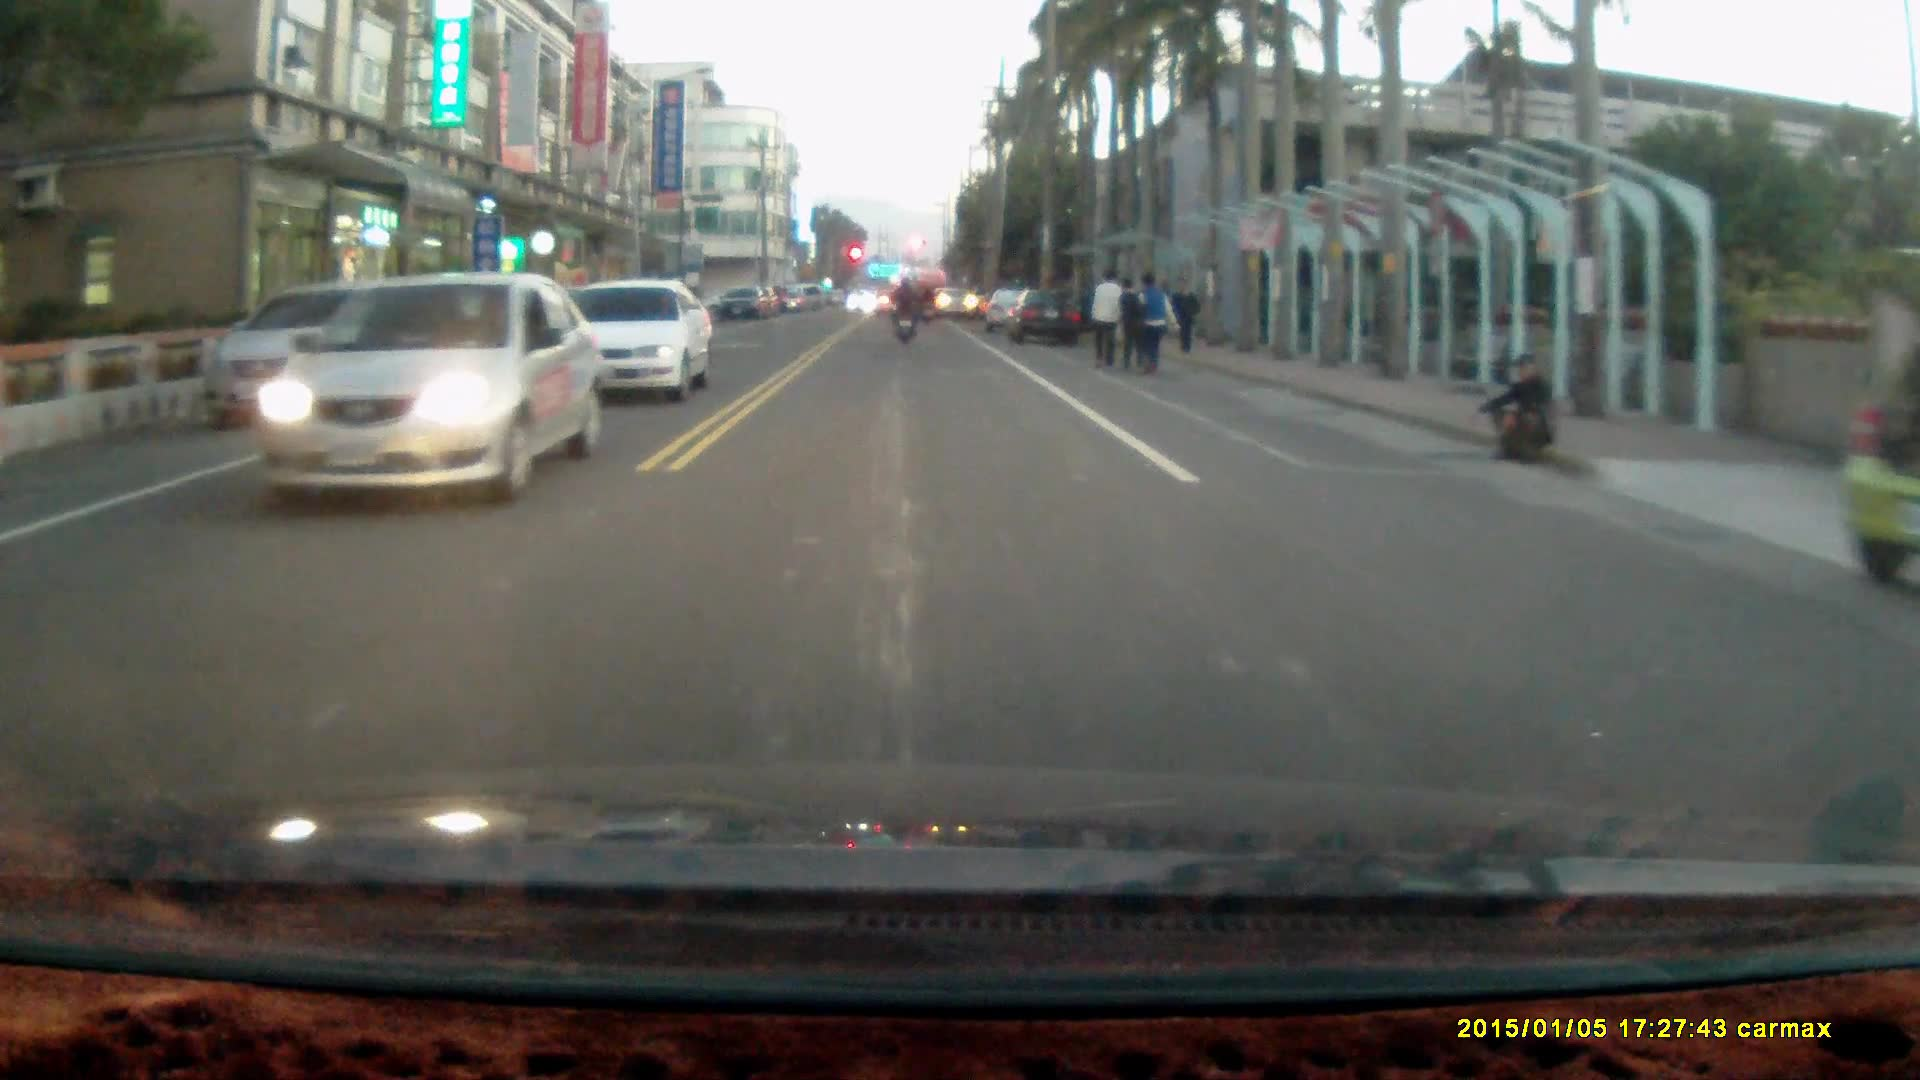pedestrian: (1477, 354, 1559, 466), (1126, 272, 1175, 376), (1089, 267, 1123, 370), (1113, 275, 1145, 369), (1165, 271, 1200, 353)
rider: (886, 273, 919, 347)
vehicle: (252, 272, 602, 509), (565, 278, 717, 408), (1002, 290, 1085, 345)
